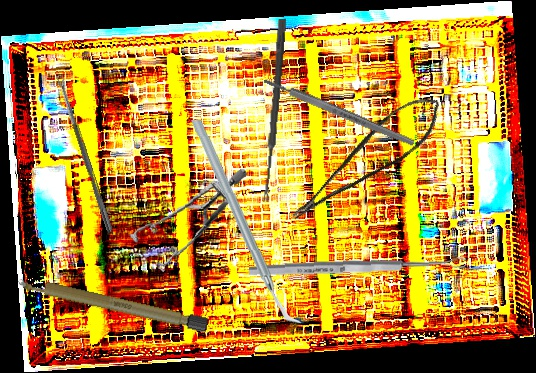Chopper: (190, 118, 303, 325)
Micro Scissor: (272, 86, 456, 226)
Scalpel Handle: (14, 273, 211, 333), (262, 75, 416, 149)
Speculum: (122, 168, 258, 276)
Surgical Spoon: (56, 74, 115, 235), (261, 18, 287, 203), (248, 256, 466, 278)
